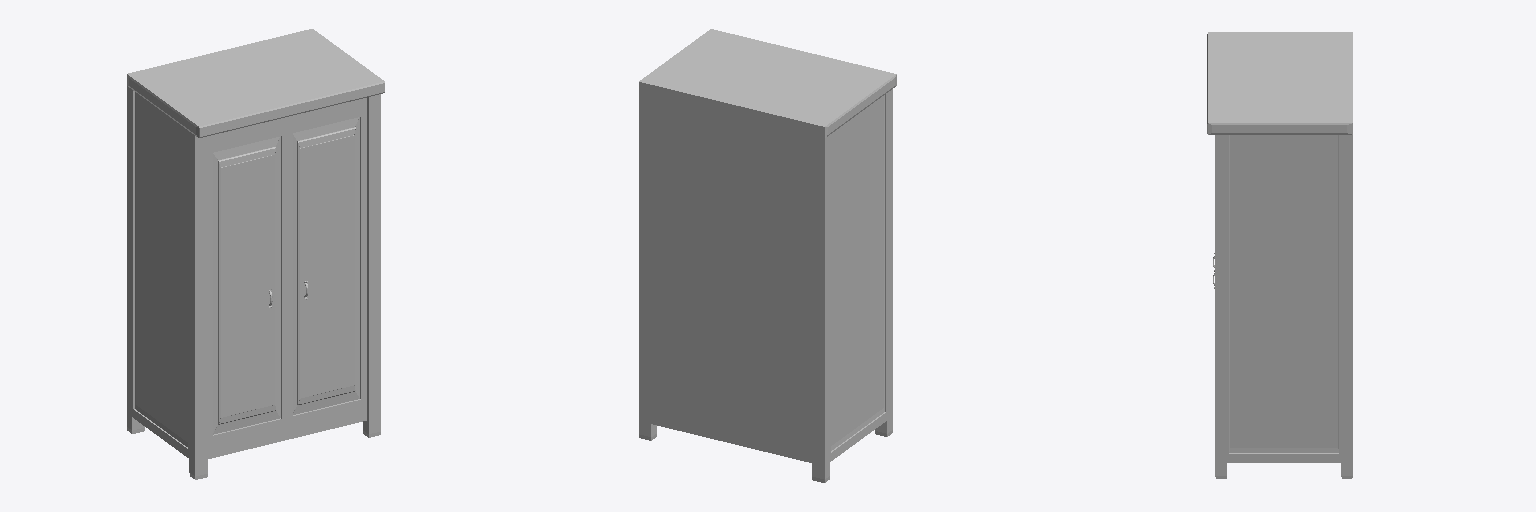
The model's file is wordrobe2.obj.
The picture shows the model from 3 angles: view 1: azimuth 30°, elevation 25°; view 2: azimuth 150°, elevation 25°; view 3: azimuth 270°, elevation 25°; orthographic projection.
Visible parts, largest first — view 1: Cube.001; view 2: Cube.001; view 3: Cube.001.
Boxes of the visible parts, x1=… form: Cube.001: x1=127, y1=29, x2=384, y2=479; Cube.001: x1=639, y1=29, x2=896, y2=482; Cube.001: x1=1207, y1=32, x2=1352, y2=478.
Bounding box in the file's own units: 1.14 × 2.07 × 0.7655.